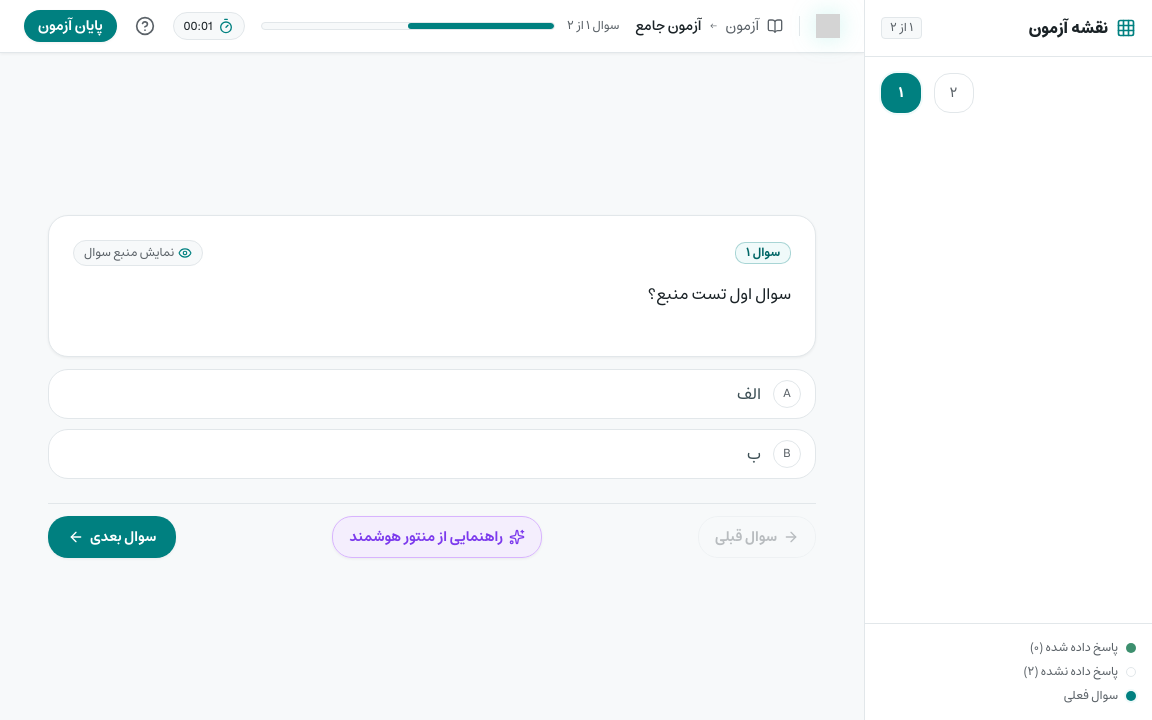
Test: ExamTakingView Component › provides independent controlled disclosure for question source without rendering lesson title by default
Expected: the text "منبع: جلسه ۱: فیزیولوژی آدرنال" is not shown
Expected: the text "نمایش منبع سوال" is shown, [84,245,174,261]
Click "نمایش منبع سوال" for Question 1
Step 1. Click the button "نمایش منبع سوال" → (138, 253), box [73,240,203,266]
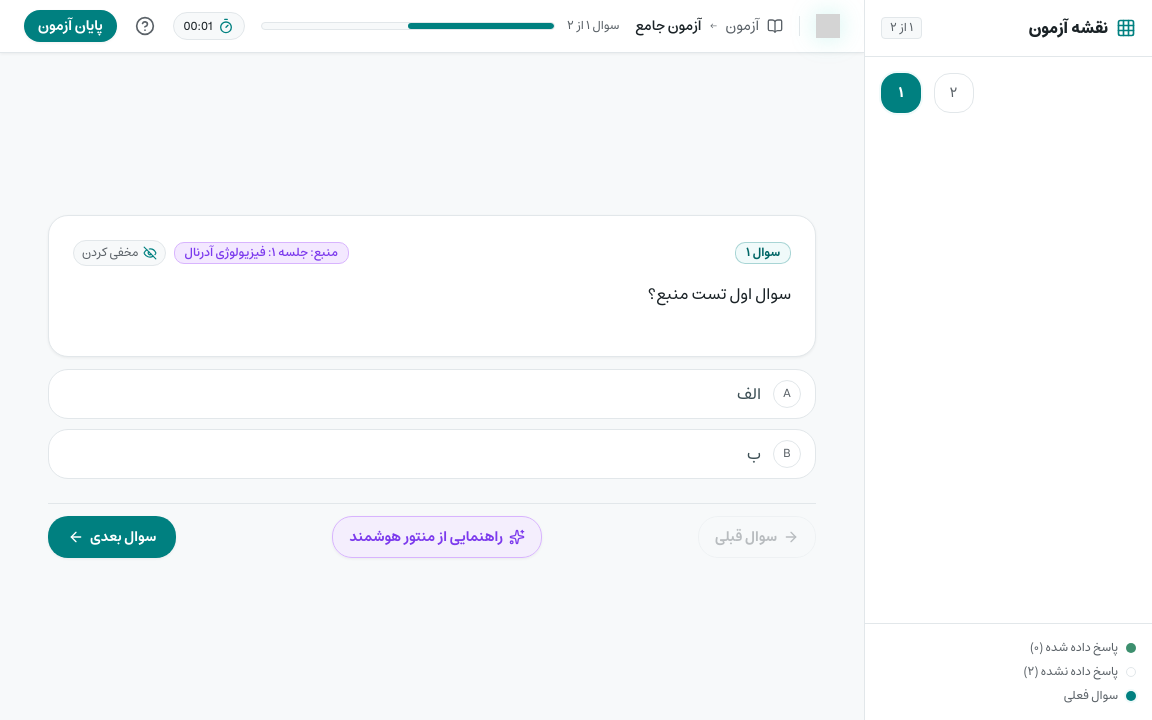
Expected: the text "منبع: جلسه ۱: فیزیولوژی آدرنال" is shown, [174,242,349,264]
Expected: the text "مخفی کردن" is shown, [82,245,138,261]
Step 2. Click the button "سوال بعدی" → (112, 537), box [48,516,176,558]
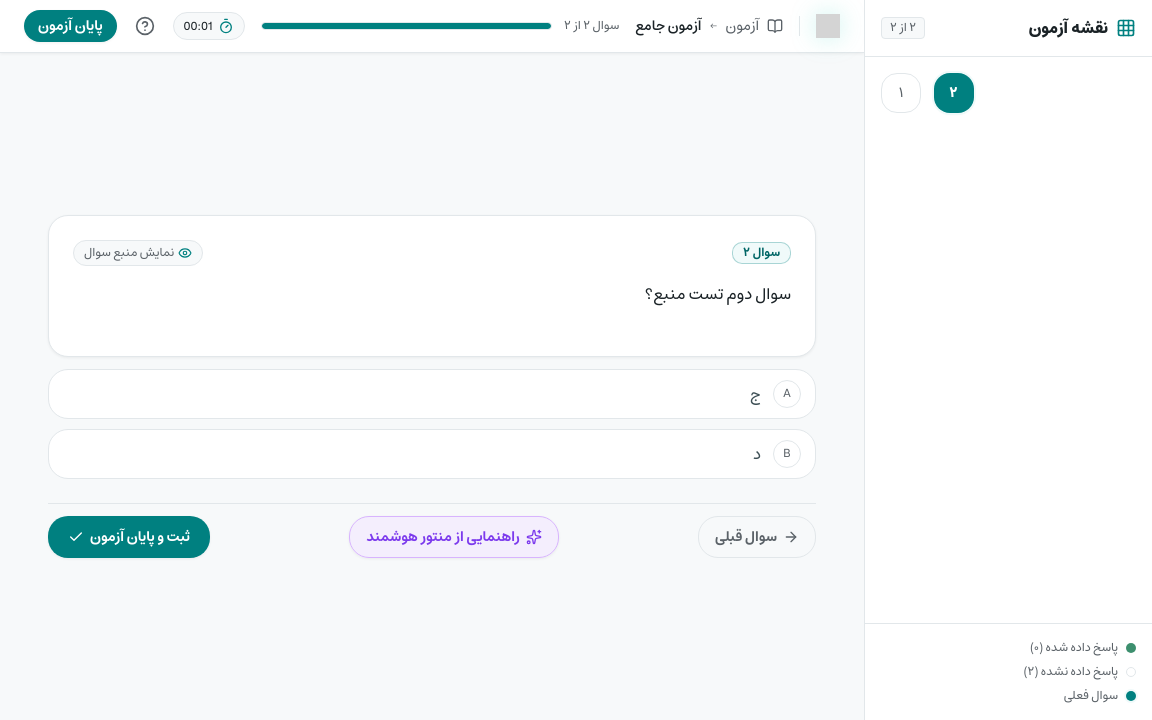
Expected: the text "نمایش منبع سوال" is shown, [84,245,174,261]
Step 3. Click the button "سوال قبلی" → (757, 537), box [698,516,816,558]
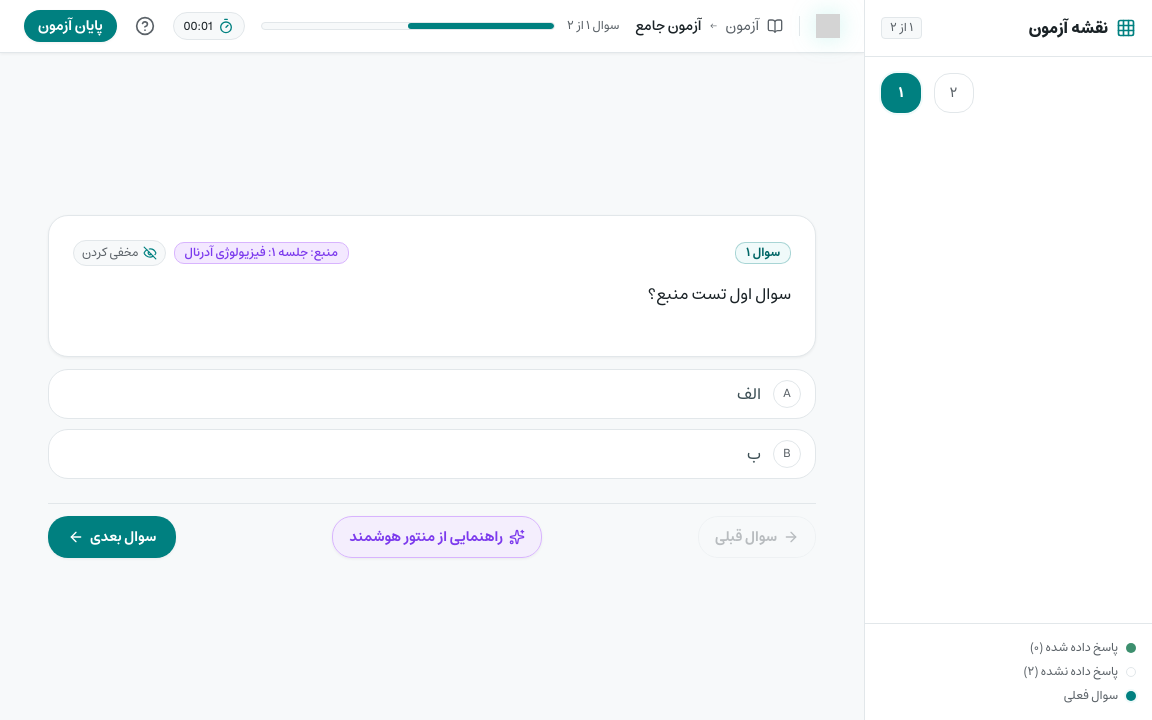
Expected: the text "منبع: جلسه ۱: فیزیولوژی آدرنال" is shown, [174,242,349,264]
Step 4. Click the button "مخفی کردن" → (119, 253), box [73,240,166,266]
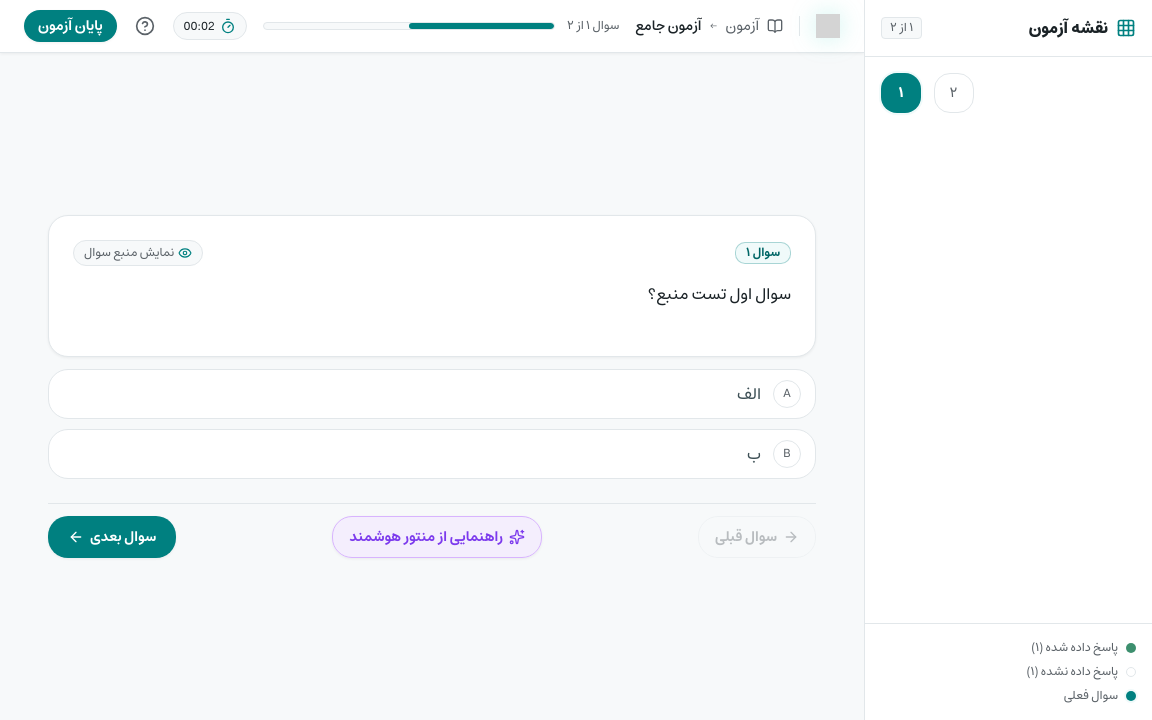
Expected: the text "منبع: جلسه ۱: فیزیولوژی آدرنال" is gone
Expected: the text "نمایش منبع سوال" is shown, [84,245,174,261]
